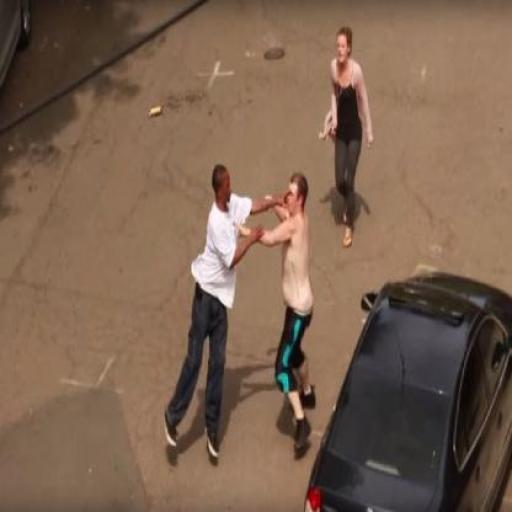Fighting: (162, 153, 316, 473)
